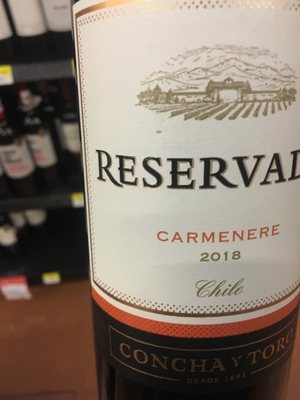reservado carmenere: (67, 6, 300, 389)
